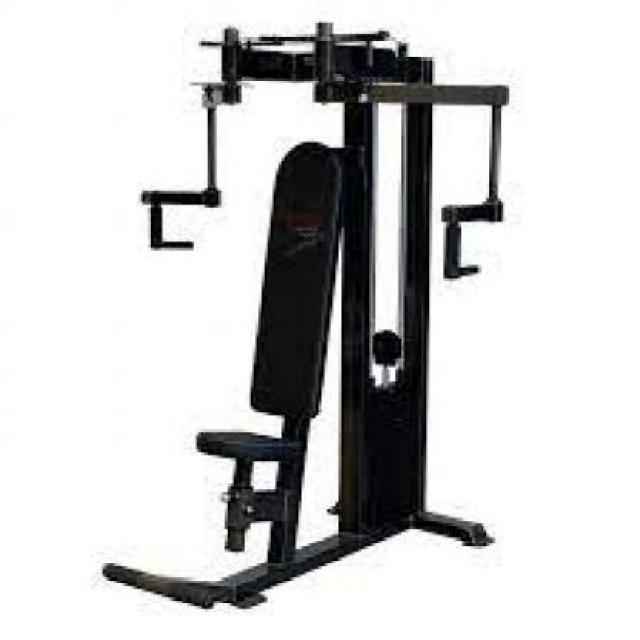chest fly machine: (81, 21, 514, 614)
